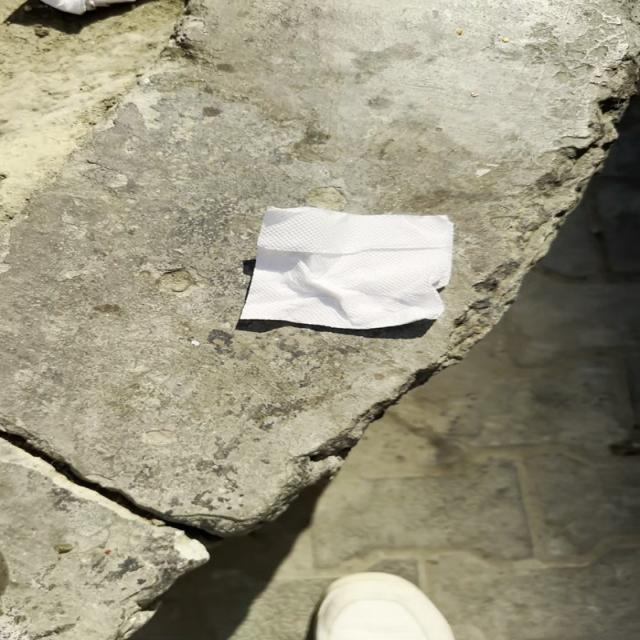tissue: (228, 208, 469, 332)
